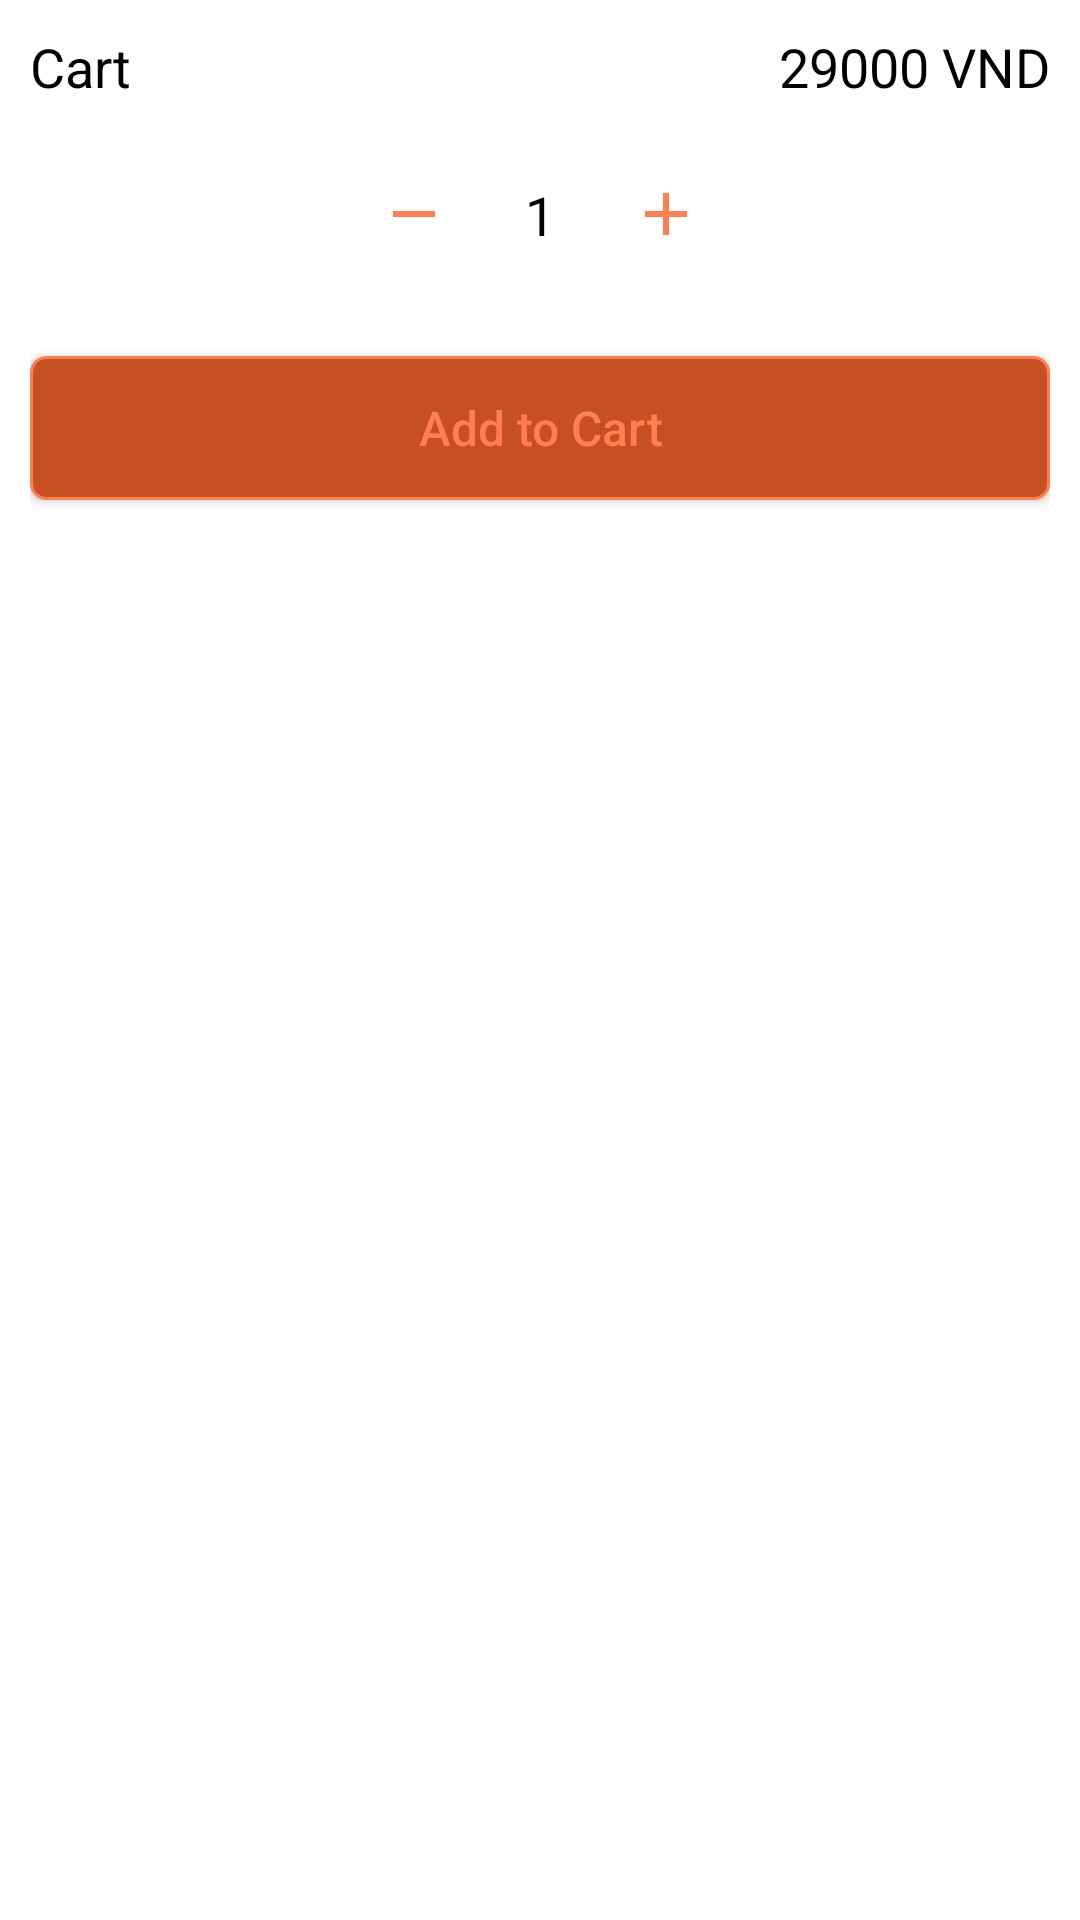

Icon bounding boxes for this 1080*1920 phone screenshot, format box(x1, y1, x2, y2):
plus: box(645, 193, 687, 235)
